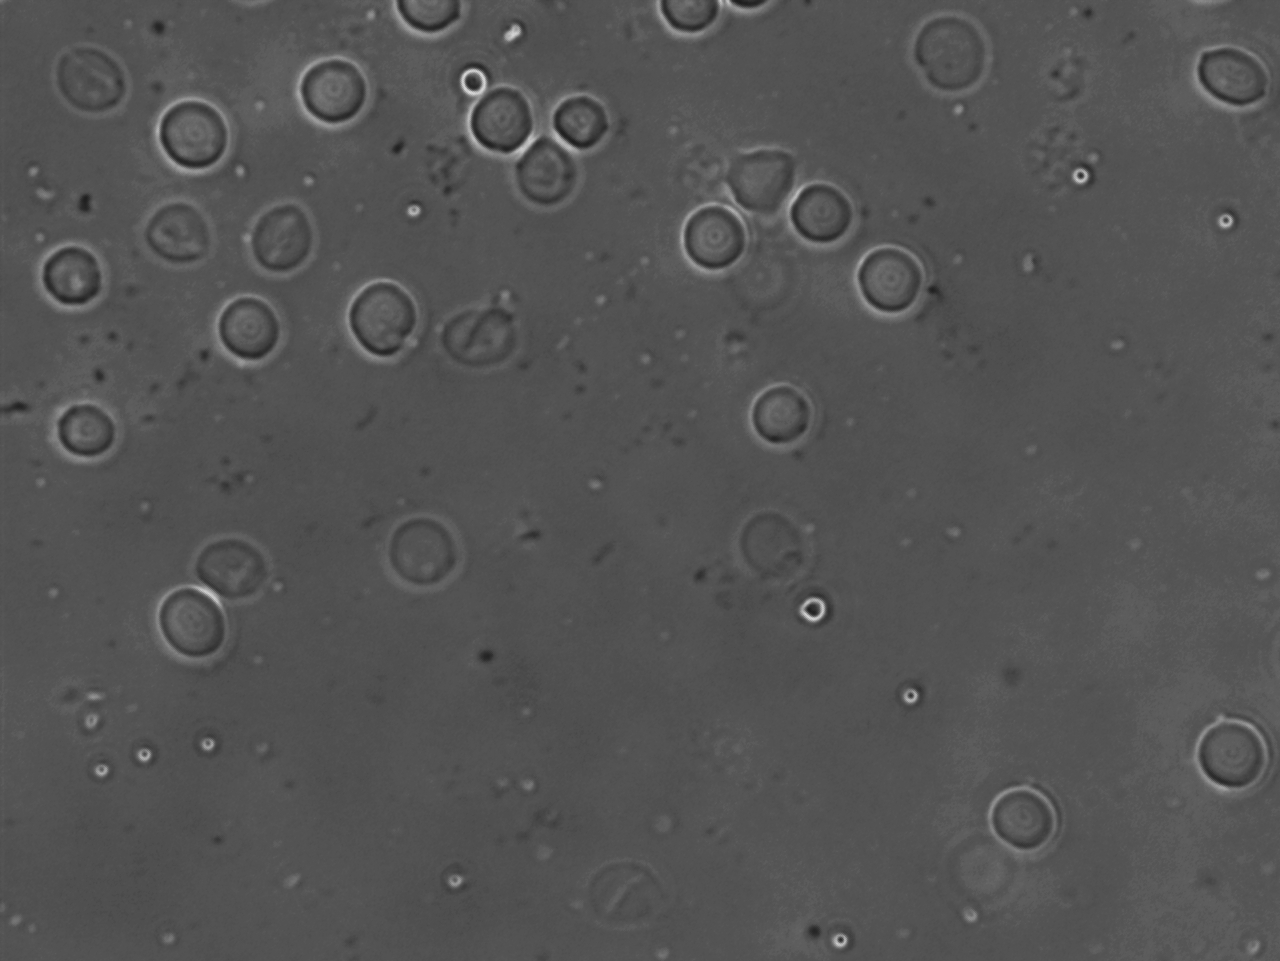depth:0: (1185, 700, 1280, 805), (848, 237, 945, 338), (147, 576, 249, 672), (290, 45, 385, 139), (735, 373, 835, 462), (203, 283, 293, 375), (342, 276, 430, 369), (668, 192, 758, 283), (527, 71, 616, 159), (29, 232, 116, 320), (147, 91, 240, 173), (242, 196, 327, 283), (1188, 32, 1271, 121), (773, 161, 857, 246), (450, 78, 535, 159), (48, 393, 131, 473)
